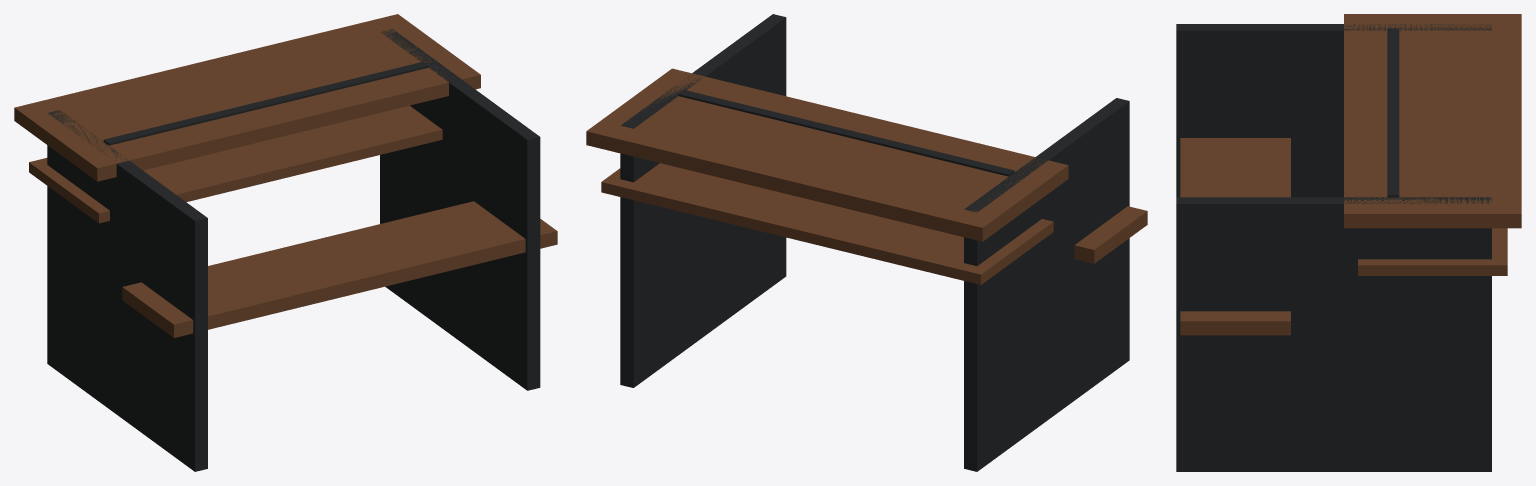
File: CB_PROP_VN_Desk_A.glb
3 renders of one model, left to right at view 1: azimuth 30°, elevation 25°; view 2: azimuth 150°, elevation 25°; view 3: azimuth 270°, elevation 25°, orthographic. The views are drawn at different scales.
Parts seen in each view (by area): view 1: CB_PROP_VN_Desk_A; view 2: CB_PROP_VN_Desk_A; view 3: CB_PROP_VN_Desk_A.
Part boxes in pixels (x1=…): CB_PROP_VN_Desk_A: x1=14, y1=14, x2=557, y2=471; CB_PROP_VN_Desk_A: x1=586, y1=14, x2=1147, y2=471; CB_PROP_VN_Desk_A: x1=1176, y1=14, x2=1521, y2=471.
Size of the model in its own units: 1.2 by 0.756 by 0.875.
